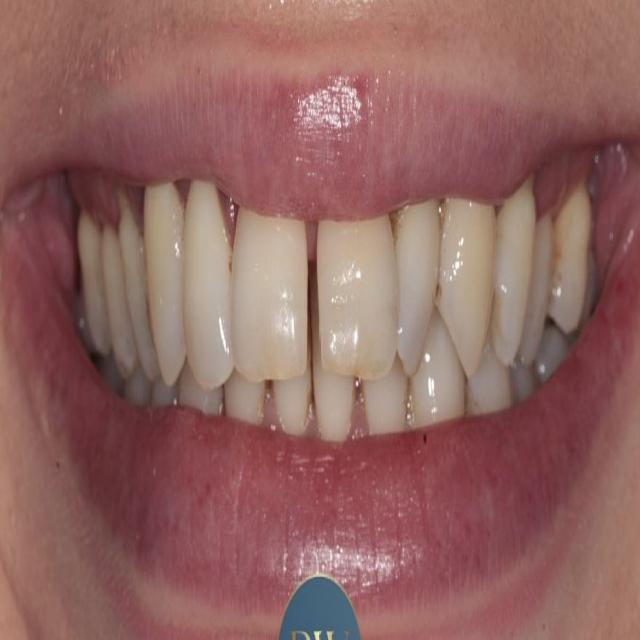tooth: (314, 216, 400, 377), (239, 212, 307, 379), (184, 190, 232, 380), (144, 192, 186, 379), (446, 192, 488, 360), (396, 217, 434, 362), (120, 218, 154, 380), (555, 194, 588, 330), (102, 230, 133, 373), (76, 212, 105, 348), (502, 205, 530, 341), (541, 216, 553, 336)
